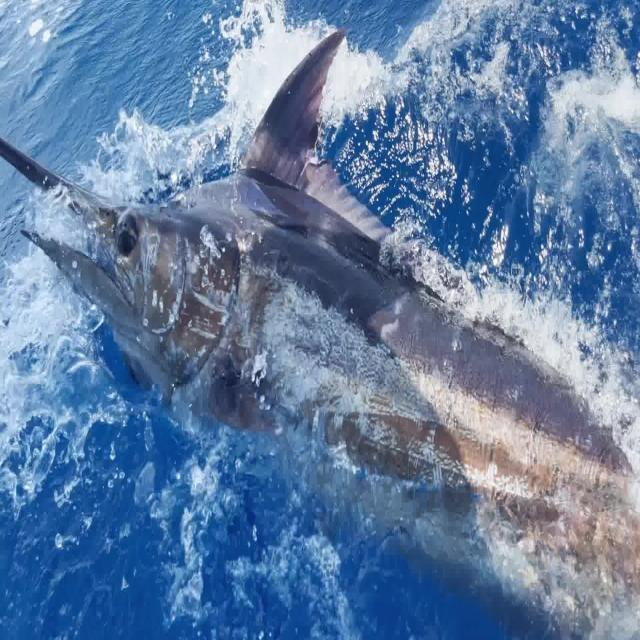Liberacion segura: (0, 25, 640, 640)
